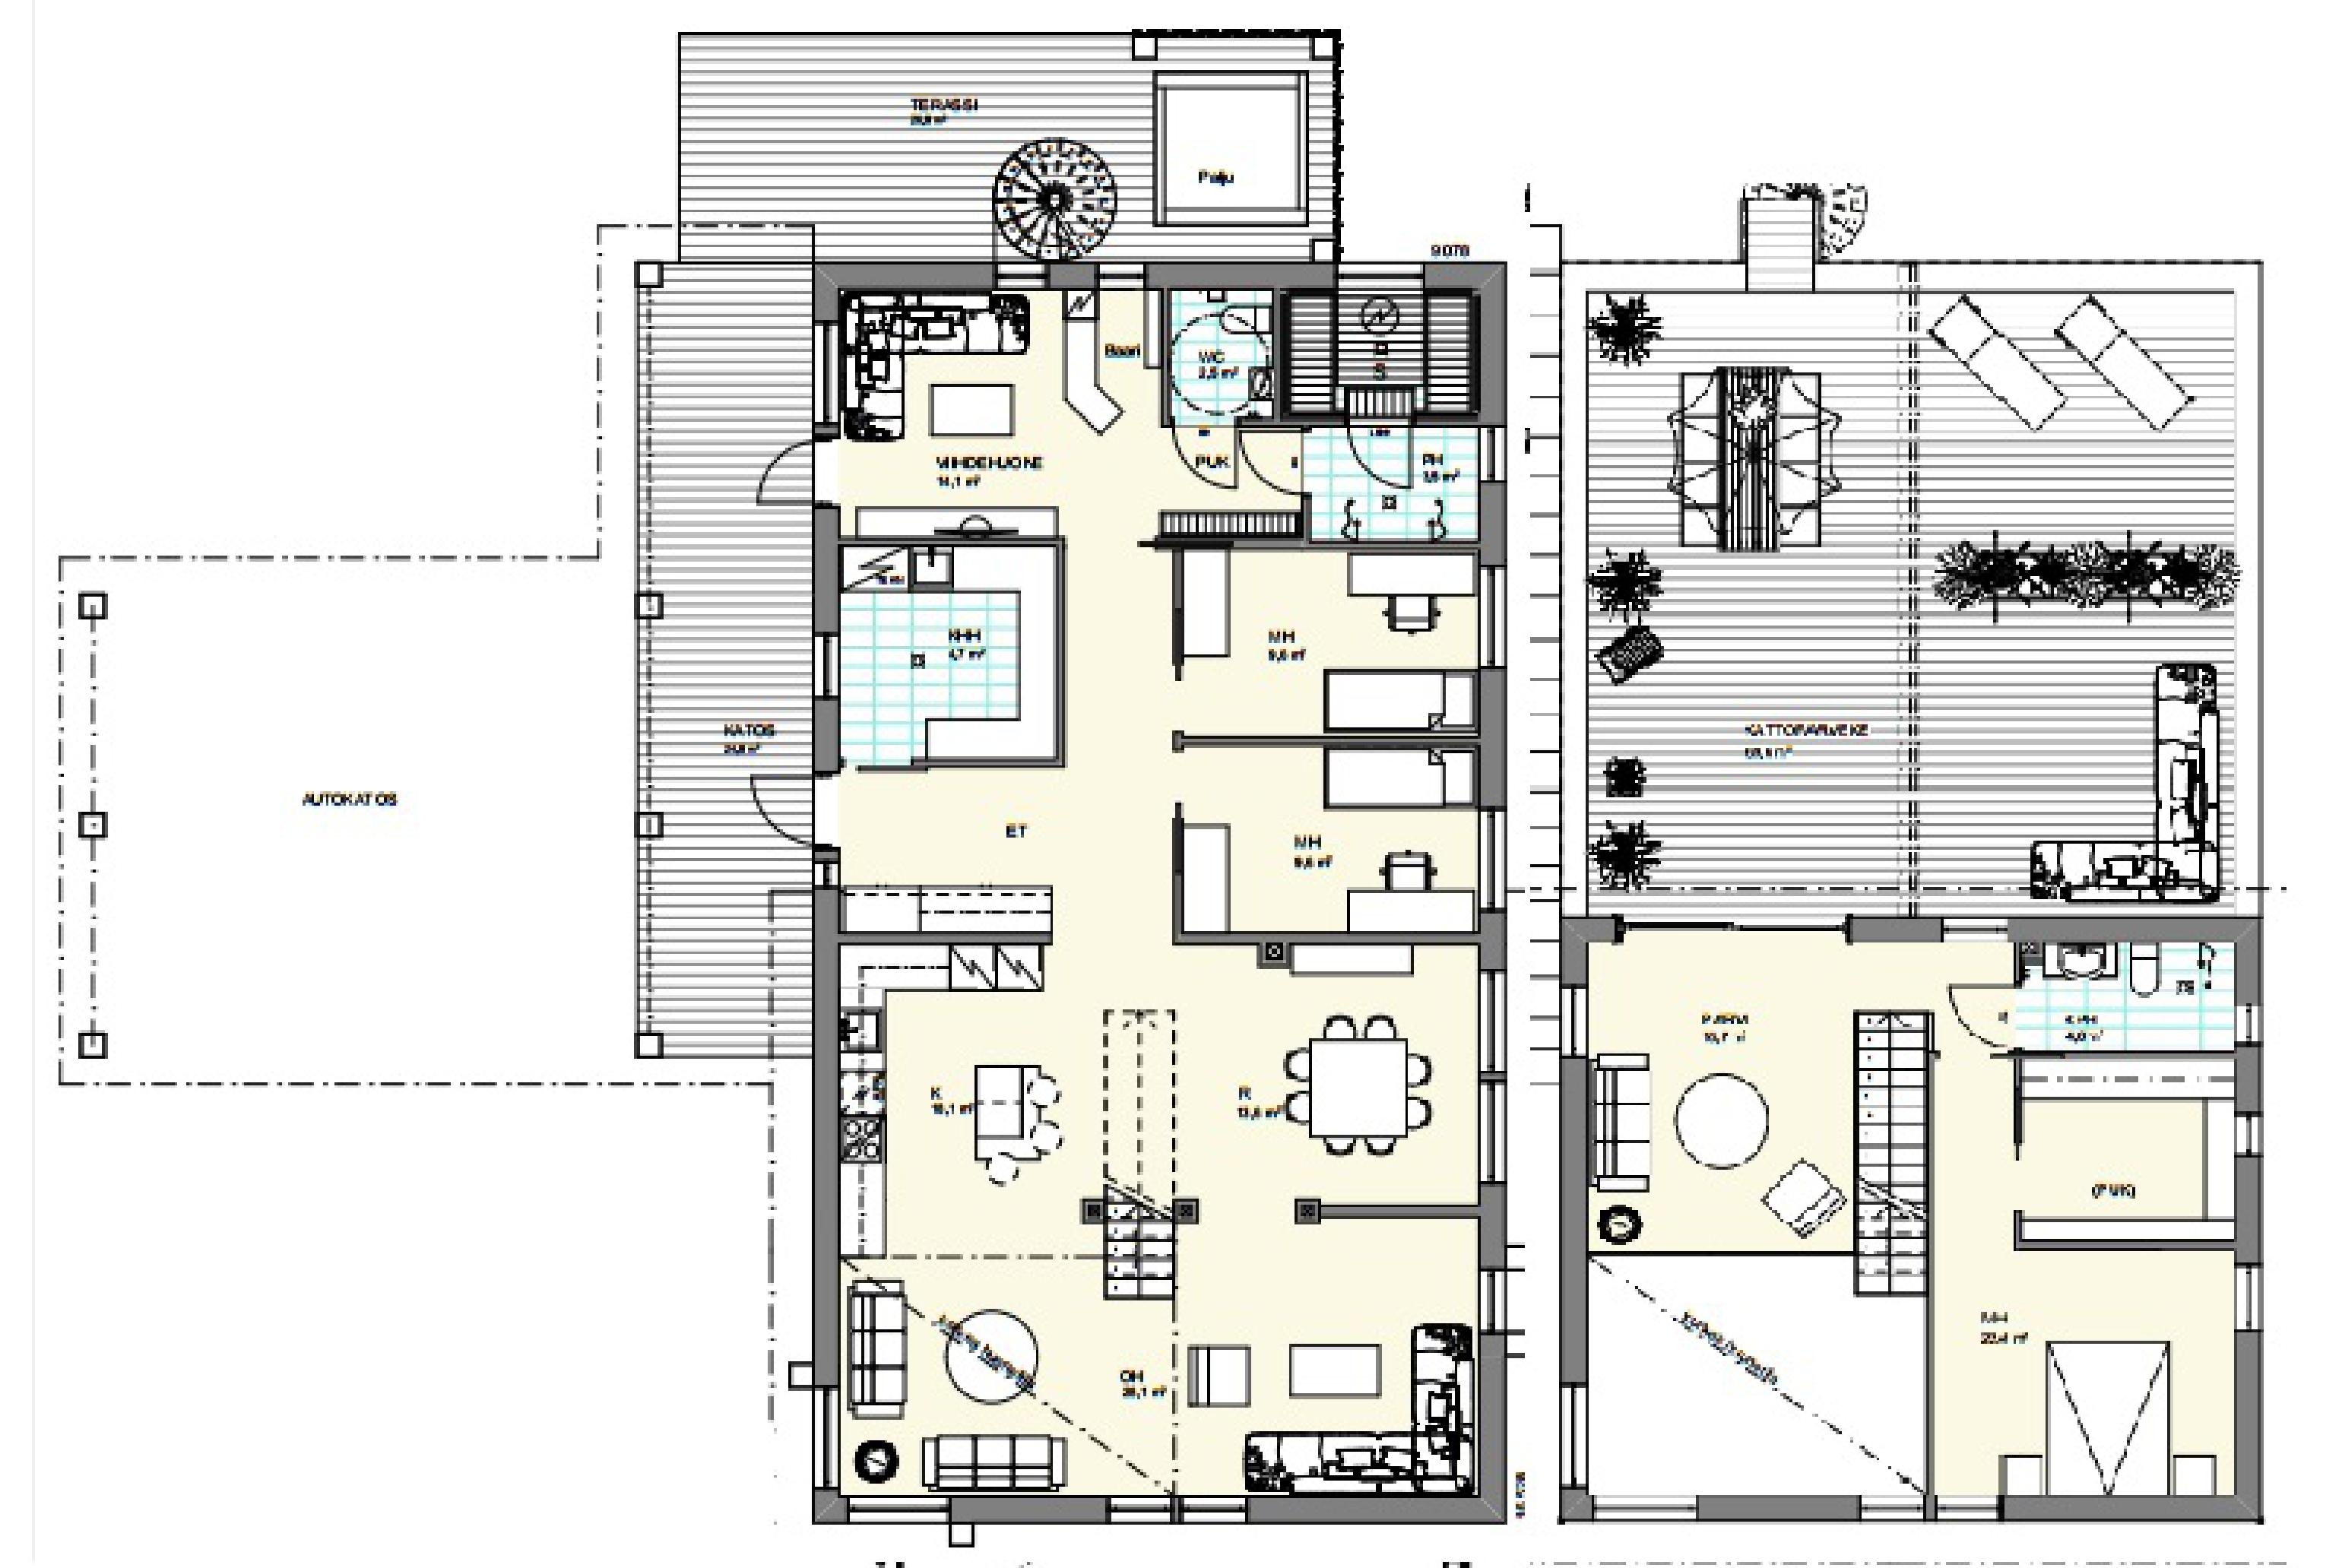door: (744, 766, 838, 849), (1943, 970, 2036, 1050), (1344, 409, 1420, 504), (1234, 422, 1309, 509), (740, 436, 831, 500), (1180, 416, 1246, 499)
window: (1477, 973, 1516, 1192), (1628, 917, 1838, 943), (1472, 567, 1516, 668), (1477, 802, 1516, 912), (1325, 256, 1425, 294), (847, 1486, 942, 1523), (1850, 1482, 1915, 1526), (1470, 1269, 1512, 1333), (1087, 259, 1162, 294), (1556, 1388, 1581, 1488), (1553, 985, 1591, 1041), (1185, 1494, 1241, 1531), (1586, 1496, 1698, 1514), (1115, 1488, 1167, 1524), (2232, 1270, 2260, 1337), (1479, 425, 1512, 480), (1938, 1500, 2009, 1524), (2226, 1012, 2265, 1057), (1948, 915, 2008, 940), (998, 266, 1048, 292), (2242, 1113, 2265, 1157)
zone: (1598, 289, 2230, 908), (835, 943, 1470, 1491), (838, 560, 1479, 935), (819, 290, 1484, 539), (683, 23, 1330, 252), (635, 271, 823, 1057), (1588, 938, 1917, 1249), (1920, 929, 2237, 1249), (1588, 1258, 1934, 1496), (1924, 1244, 2237, 1494)
